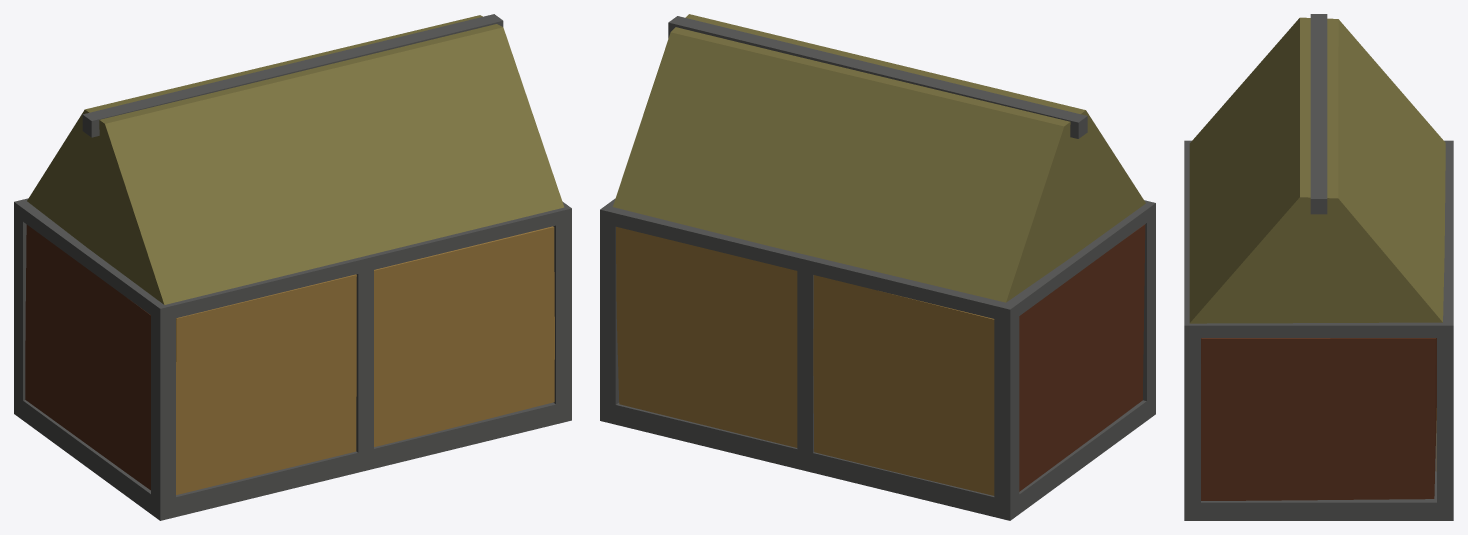
Rendered from cargo_enclosed_frame.glb.
3 renders of one model, left to right at view 1: azimuth 30°, elevation 25°; view 2: azimuth 150°, elevation 25°; view 3: azimuth 270°, elevation 25°, orthographic. The views are drawn at different scales.
Parts seen in each view (by area): view 1: cargo_enclosed_frame; view 2: cargo_enclosed_frame; view 3: cargo_enclosed_frame.
Boxes of the visible parts, x1,y1,x2,y2 form: cargo_enclosed_frame: [14, 14, 571, 520]; cargo_enclosed_frame: [600, 14, 1155, 520]; cargo_enclosed_frame: [1184, 14, 1453, 520].
Bounding box in the file's own units: 1.3 × 1.05 × 0.8.
